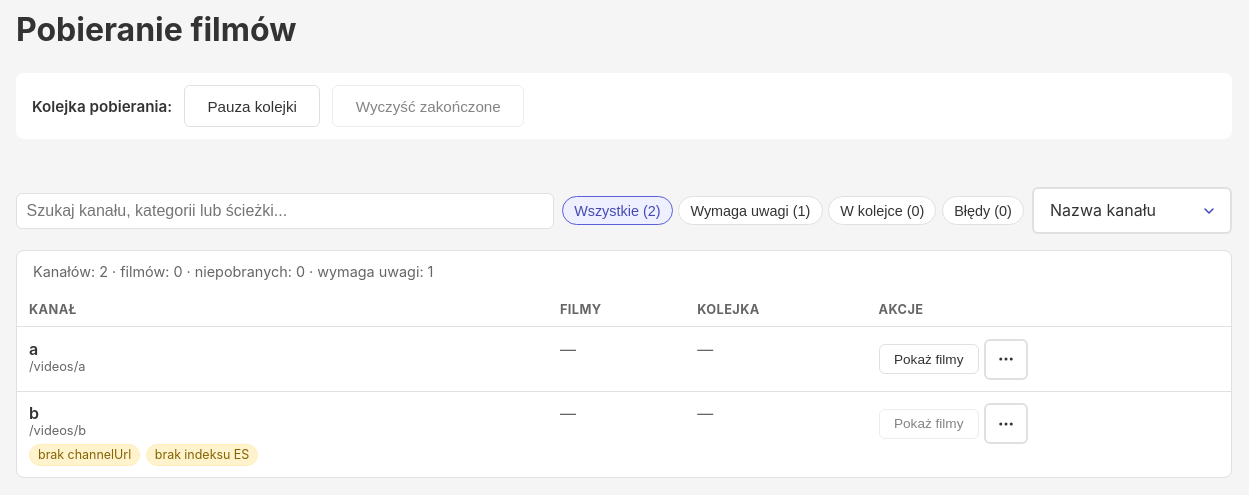
StatusPage › filters the rows from the toolbar and keeps the filter in the URL
Check: the text "/videos/a" is shown, box [29,359,85,374]
What coordinates should you click on to do the following:
click the button "Wymaga uwagi (1)"
I would click on:
 (750, 211)
Its box is [678,196,822,225].
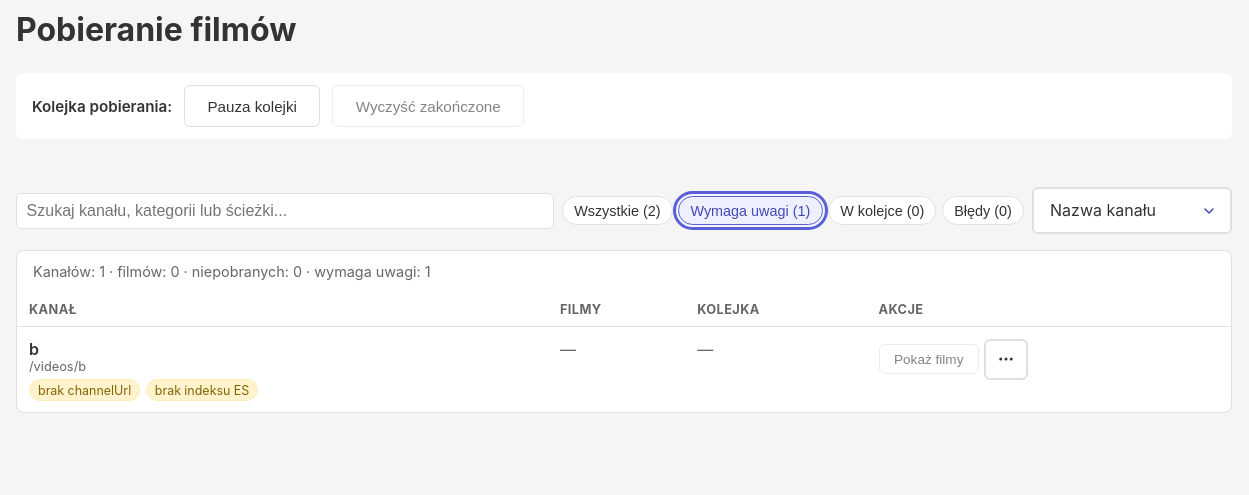
Check: the text "/videos/b" is shown, box [29,359,86,374]
Check: the text "/videos/a" is gone
